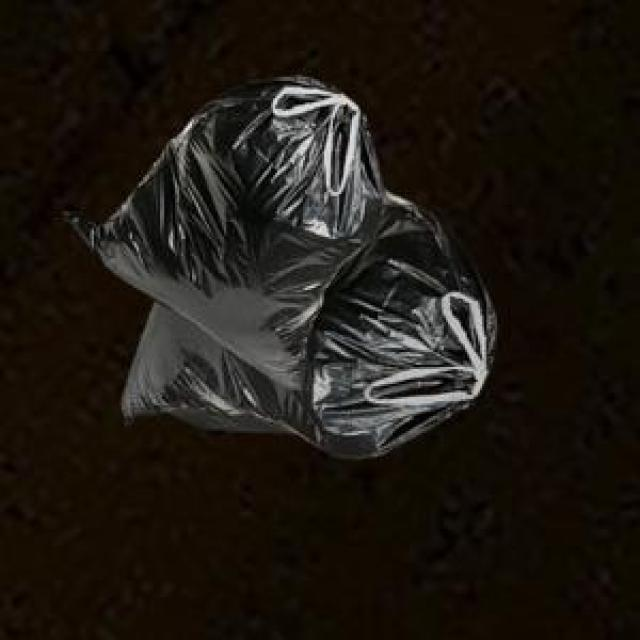waste: (72, 78, 495, 458)
